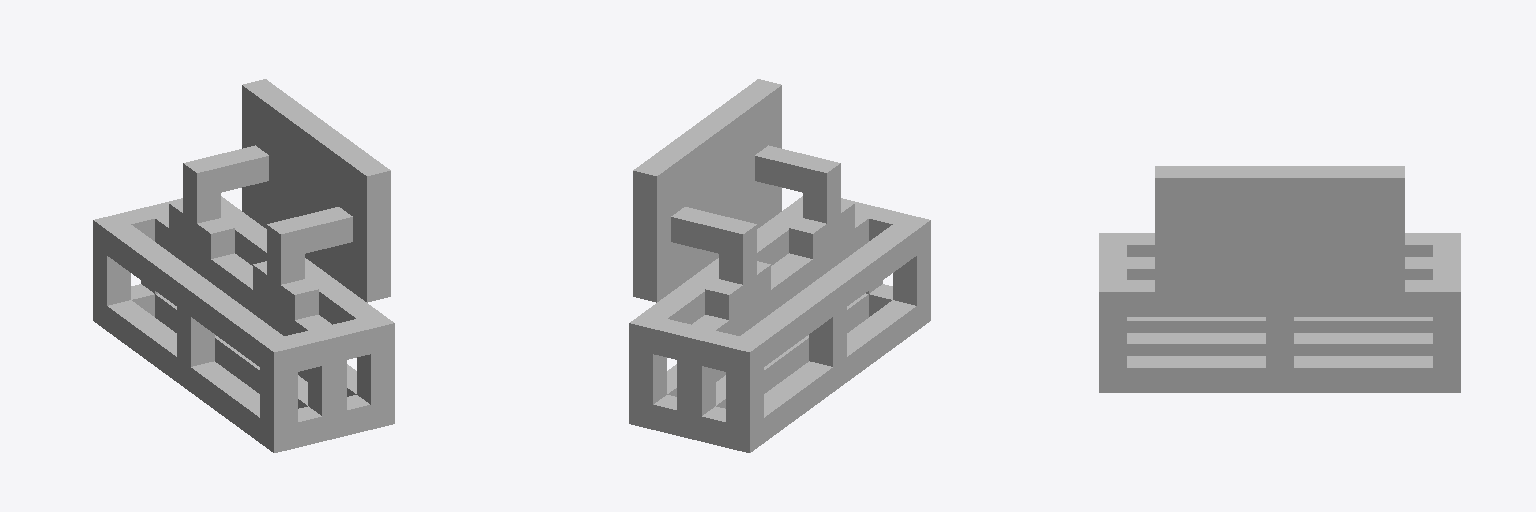
The model's file is Garage Lights.obj.
The picture shows the model from 3 angles: view 1: azimuth 30°, elevation 25°; view 2: azimuth 150°, elevation 25°; view 3: azimuth 270°, elevation 25°; orthographic projection.
Visible parts, largest first — view 1: object 1; view 2: object 1; view 3: object 1.
Boxes of the visible parts, <box> form: object 1: <box>93,79,394,452</box>; object 1: <box>629,79,930,452</box>; object 1: <box>1099,166,1460,392</box>.
Bounding box in the file's own units: 0.6 × 0.9 × 1.3.